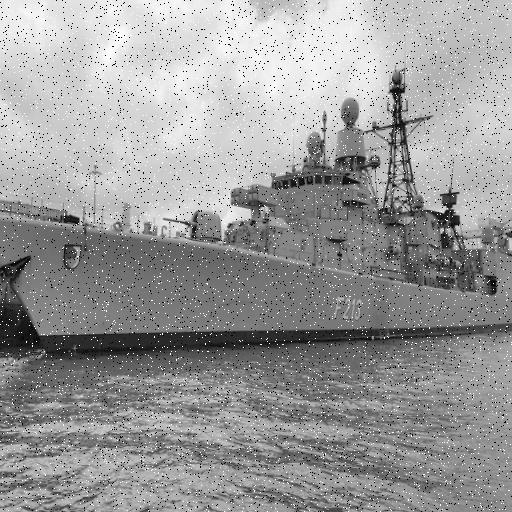Fragata: (1, 110, 512, 364)
